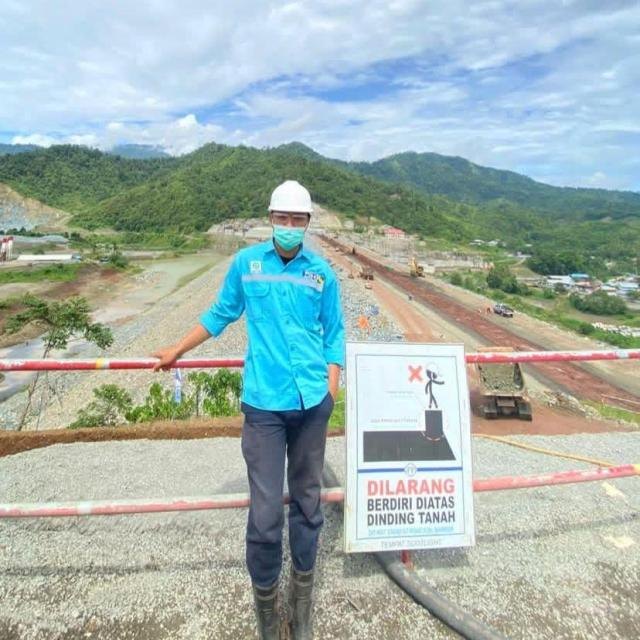safetyhelmet: (260, 177, 320, 259)
